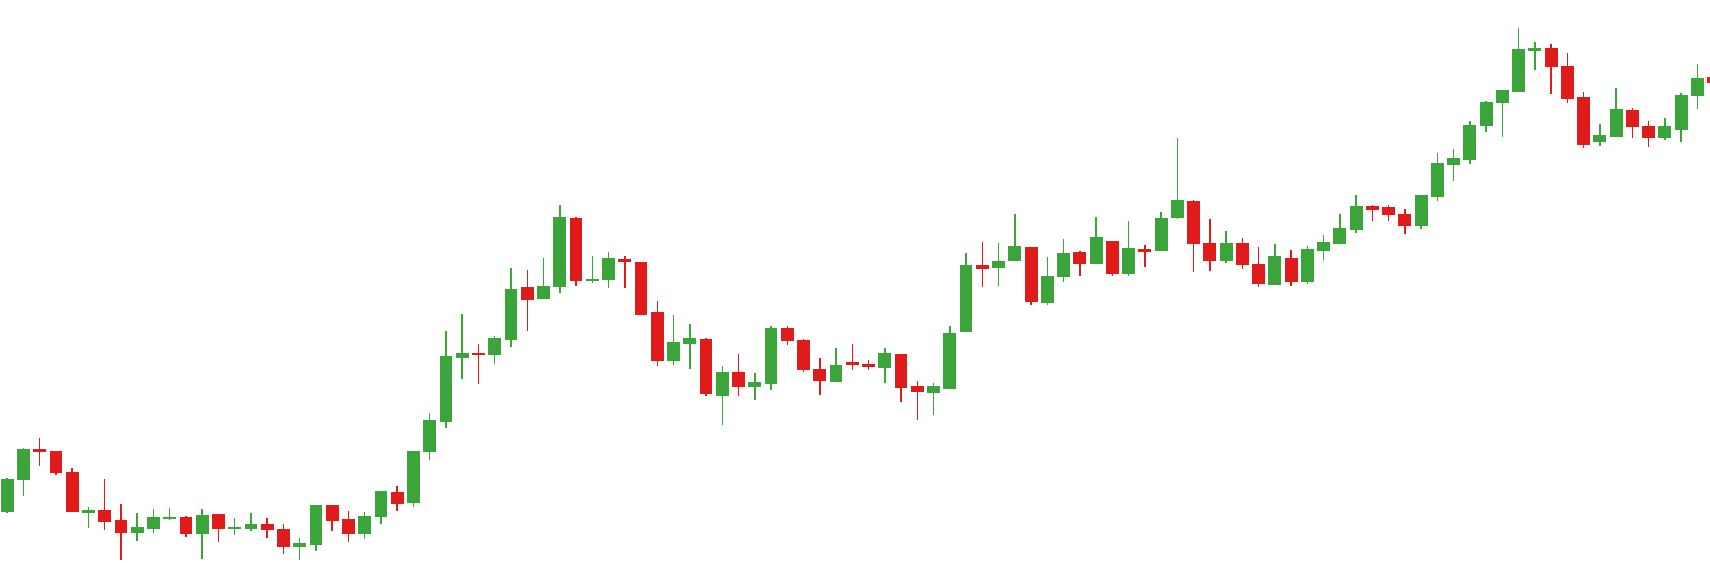buy: (812, 353, 938, 423)
